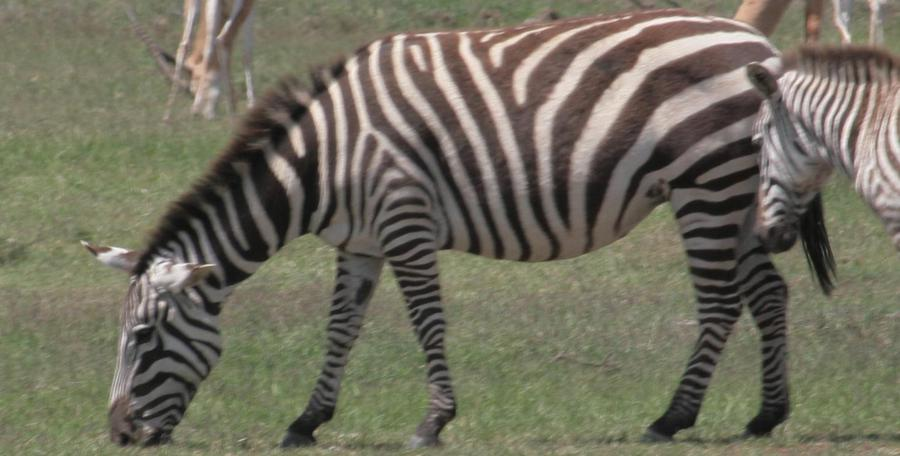zebra_plains: (288, 12, 814, 278)
